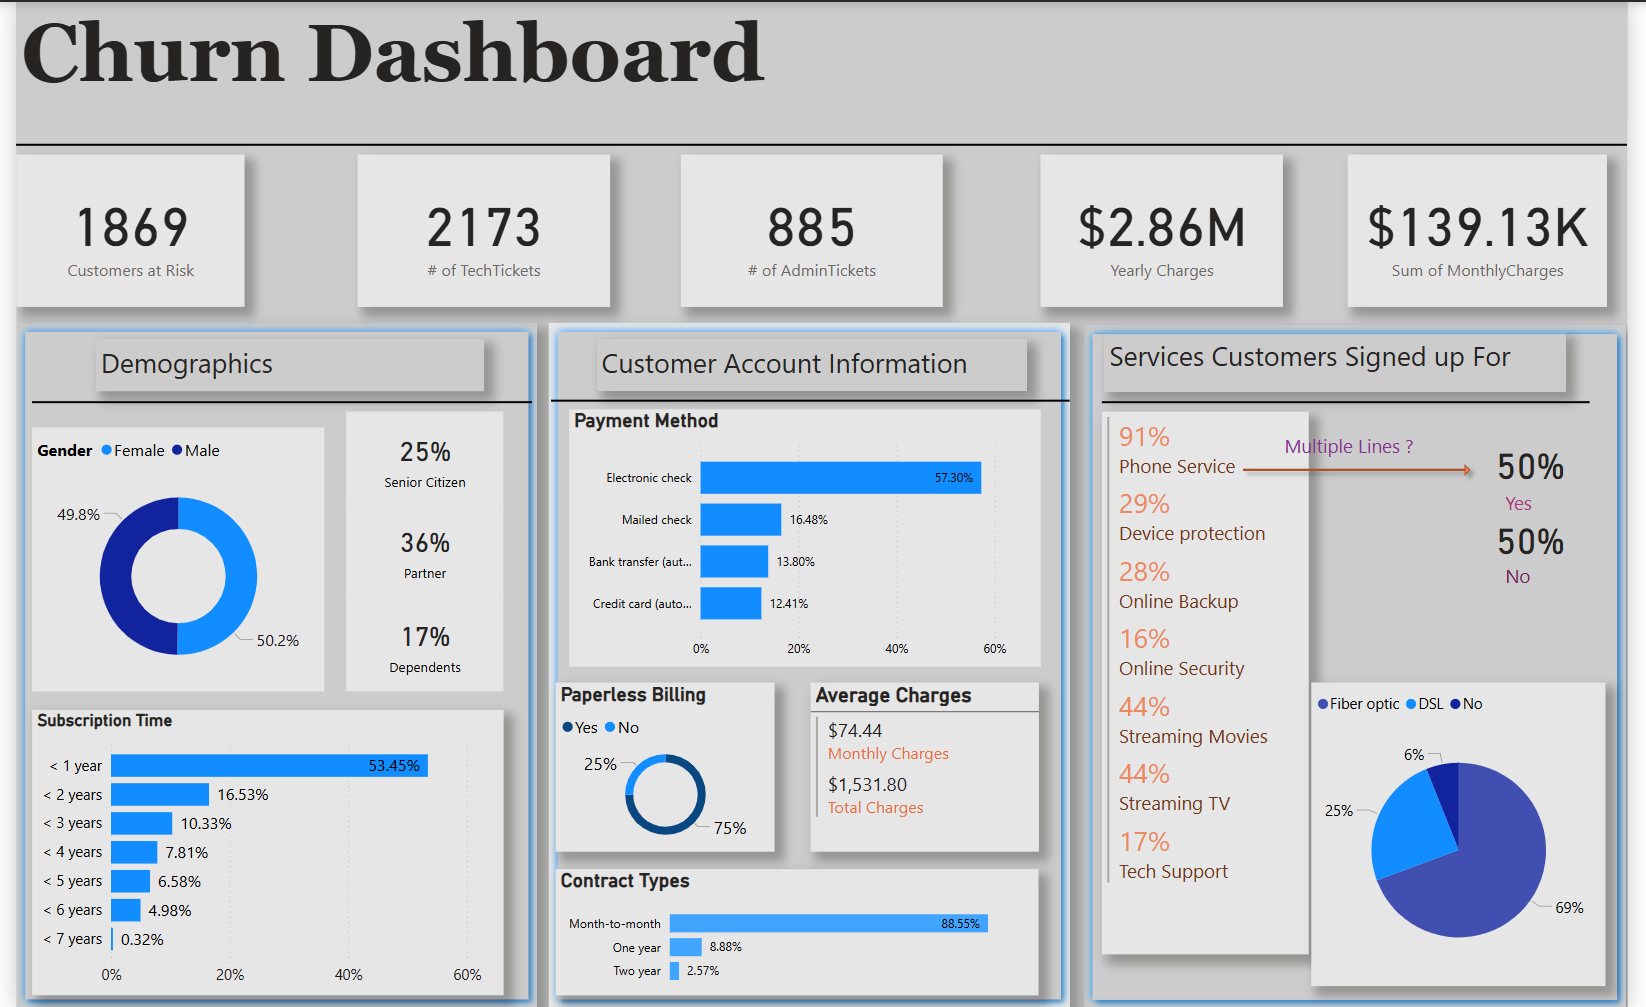

Layout of this report page (visuals, bound fields, positions):
{"tool":"powerbi","page":{"name":"Churn","canvas":[1600,1000],"ordinal":0},"visuals":[{"type":"textbox","box":[0,0,1599.2,120.5],"z":0},{"type":"shape","box":[0,110.4,1599,62.1],"z":1000},{"type":"card","fields":{"Values":["CountNonNull(01 Churn-Dataset.customerID)"]},"box":[0,151.2,226.8,151.2],"z":2000},{"type":"card","fields":{"Values":["Sum(01 Churn-Dataset.numTechTickets)"]},"box":[337.8,151.2,250.4,151.2],"z":3000},{"type":"card","fields":{"Values":["Sum(01 Churn-Dataset.numAdminTickets)"]},"box":[659.1,151.2,259.8,151.2],"z":4000},{"type":"card","fields":{"Values":["Sum(01 Churn-Dataset.TotalCharges)"]},"box":[1015.8,151.2,240.9,151.2],"z":5000},{"type":"card","fields":{"Values":["Sum(01 Churn-Dataset.MonthlyCharges)"]},"box":[1320.5,151.2,257.5,151.2],"z":6000},{"type":"shape","box":[0,318.9,517.3,680.3],"z":7000},{"type":"shape","box":[529.1,318.9,517.3,680.3],"z":8000},{"type":"shape","box":[1060.6,319.8,538.4,678.7],"z":9000},{"type":"textbox","box":[78,335.4,385,52],"z":10000},{"type":"shape","box":[1077.2,380.3,484.3,35.4],"z":11000},{"type":"donutChart","fields":{"Category":["01 Churn-Dataset.gender"],"Y":["CountNonNull(01 Churn-Dataset.customerID)"]},"box":[16.1,423.3,289.9,262.3],"z":12000},{"type":"barChart","title":"Subscription Time","fields":{"Category":["01 Churn-Dataset.Loyalty"],"Y":["CountNonNull(01 Churn-Dataset.Churn)"]},"box":[16.5,701.6,467.7,283.5],"z":13000},{"type":"card","fields":{"Values":["01 Churn-Dataset.SeniorCitizen%"]},"box":[328.3,406.3,155.9,94.5],"z":14000},{"type":"card","fields":{"Values":["01 Churn-Dataset.Partner%"]},"box":[328.3,496.1,155.9,94.5],"z":15000},{"type":"card","fields":{"Values":["01 Churn-Dataset.Dependents%"]},"box":[328.3,590.6,155.9,94.5],"z":16000},{"type":"textbox","box":[576.4,335.4,427.6,52],"z":17000},{"type":"shape","box":[16.5,380.3,496.1,35.4],"z":18000},{"type":"shape","box":[531.5,387.4,515,18.9],"z":19000},{"type":"barChart","title":"Payment Method","fields":{"Category":["01 Churn-Dataset.PaymentMethod"],"Y":["CountNonNull(01 Churn-Dataset.customerID)"]},"box":[548,403.9,467.7,255.1],"z":20000},{"type":"donutChart","title":" Paperless Billing","fields":{"Category":["01 Churn-Dataset.PaperlessBilling"],"Y":["CountNonNull(01 Churn-Dataset.PaperlessBilling)"]},"box":[536.2,675.6,217.3,167.7],"z":21000},{"type":"multiRowCard","title":"Average Charges","fields":{"Values":["Avg(01 Churn-Dataset.MonthlyCharges)","Avg(01 Churn-Dataset.TotalCharges)"]},"box":[789,675.6,226.8,167.7],"z":22000},{"type":"barChart","title":" Contract  Types","fields":{"Category":["01 Churn-Dataset.Contract"],"Y":["CountNonNull(01 Churn-Dataset.Contract)"]},"box":[536.2,859.8,479.5,125.2],"z":23000},{"type":"textbox","box":[1079.5,328.3,458.3,59.1],"z":24000},{"type":"multiRowCard","fields":{"Values":["01 Churn-Dataset.Phone Service%","01 Churn-Dataset.Device protection%","01 Churn-Dataset.Online Backup%","01 Churn-Dataset.Online Sec. in %","01 Churn-Dataset.Streaming Movies in %","01 Churn-Dataset.Streaming TV in %","01 Churn-Dataset.Tech Support in %"]},"box":[1077.2,406.3,205.5,538.6],"z":25000},{"type":"pieChart","fields":{"Category":["01 Churn-Dataset.InternetService"],"Y":["CountNonNull(01 Churn-Dataset.InternetService)"]},"box":[1286.1,676.4,292.2,301.4],"z":26000},{"type":"card","fields":{"Values":["01 Churn-Dataset.Multiple lines Yes %"]},"box":[1442.5,414.1,117.3,87.4],"z":27000},{"type":"card","fields":{"Values":["01 Churn-Dataset.Multiple lines No %"]},"box":[1442.5,487.7,117.3,87.4],"z":28000},{"type":"textbox","box":[1472.4,552.2,46,46],"z":29000},{"type":"textbox","box":[1472.4,478.5,59.8,43.7],"z":30000},{"type":"shape","box":[1207.9,448.6,243.9,29.9],"z":31000},{"type":"textbox","box":[1253.9,423.3,151.8,34.5],"z":32000}]}

Visuals, with their boxes in screenshot pixels (x1, y1, x2, y2), scaled from the page's 1600x1000 canvas onto the 1646x1007 screenshot:
textbox: 0, 0, 1645, 121
shape: 0, 111, 1645, 174
card - CountNonNull(01 Churn-Dataset.customerID): 0, 152, 233, 305
card - Sum(01 Churn-Dataset.numTechTickets): 348, 152, 605, 305
card - Sum(01 Churn-Dataset.numAdminTickets): 678, 152, 945, 305
card - Sum(01 Churn-Dataset.TotalCharges): 1045, 152, 1293, 305
card - Sum(01 Churn-Dataset.MonthlyCharges): 1358, 152, 1623, 305
shape: 0, 321, 532, 1006
shape: 544, 321, 1076, 1006
shape: 1091, 322, 1645, 1005
textbox: 80, 338, 476, 390
shape: 1108, 383, 1606, 419
donutChart - 01 Churn-Dataset.gender x CountNonNull(01 Churn-Dataset.customerID): 17, 426, 315, 690
"Subscription Time" barChart: 17, 707, 498, 992
card - 01 Churn-Dataset.SeniorCitizen%: 338, 409, 498, 504
card - 01 Churn-Dataset.Partner%: 338, 500, 498, 595
card - 01 Churn-Dataset.Dependents%: 338, 595, 498, 690
textbox: 593, 338, 1033, 390
shape: 17, 383, 527, 419
shape: 547, 390, 1077, 409
"Payment Method" barChart: 564, 407, 1045, 664
" Paperless Billing" donutChart: 552, 680, 775, 849
"Average Charges" multiRowCard: 812, 680, 1045, 849
" Contract  Types" barChart: 552, 866, 1045, 992
textbox: 1111, 331, 1582, 390
multiRowCard - 01 Churn-Dataset.Phone Service% x 01 Churn-Dataset.Device protection%: 1108, 409, 1320, 952
pieChart - 01 Churn-Dataset.InternetService x CountNonNull(01 Churn-Dataset.InternetService): 1323, 681, 1624, 985
card - 01 Churn-Dataset.Multiple lines Yes %: 1484, 417, 1605, 505
card - 01 Churn-Dataset.Multiple lines No %: 1484, 491, 1605, 579
textbox: 1515, 556, 1562, 602
textbox: 1515, 482, 1576, 526
shape: 1243, 452, 1494, 482
textbox: 1290, 426, 1446, 461
